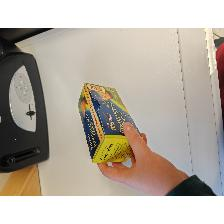Tee: (76, 82, 144, 166)
